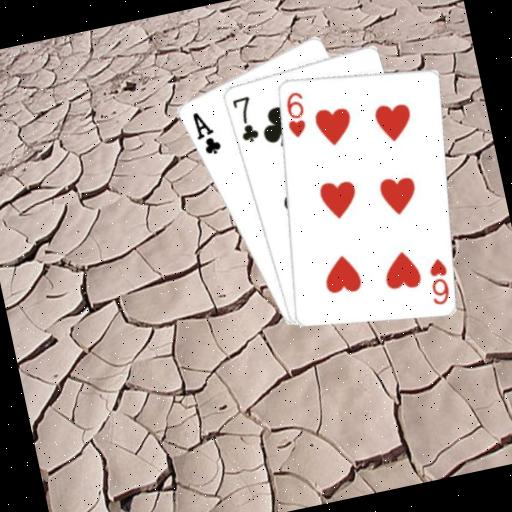6H: (277, 87, 312, 141), (420, 253, 455, 307)
7C: (227, 91, 260, 145)
AC: (187, 105, 223, 158)
